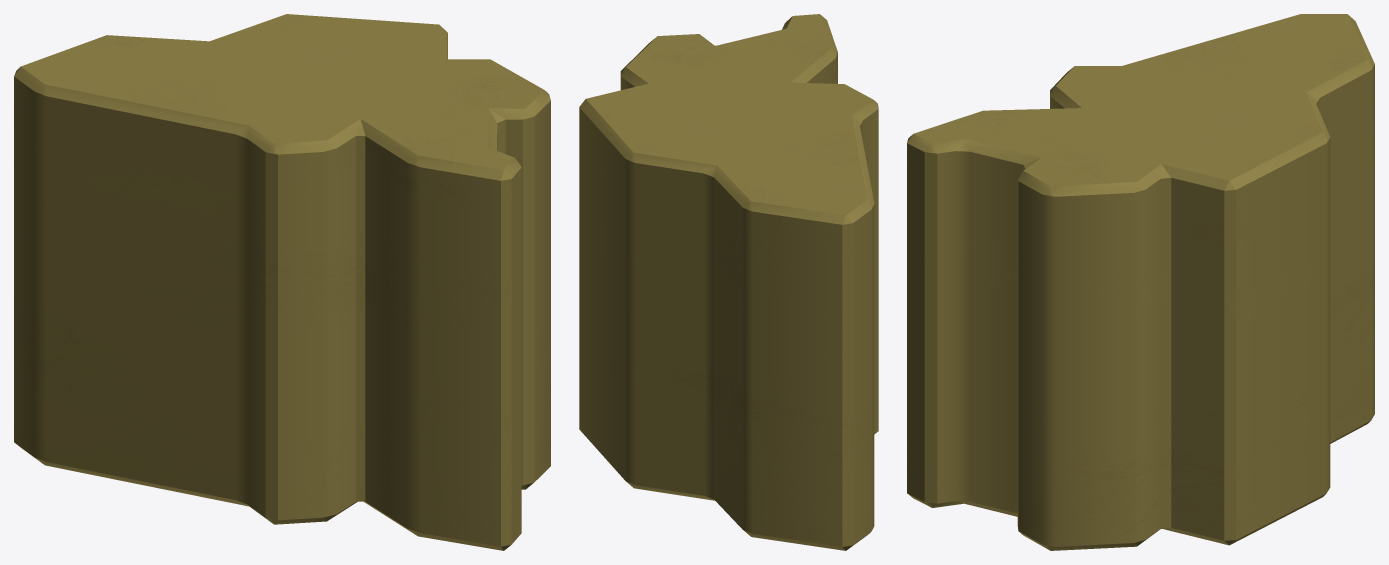
File: belgium.DAE
3 views of the same model, side by side, from view 1: azimuth 30°, elevation 25°; view 2: azimuth 150°, elevation 25°; view 3: azimuth 270°, elevation 25° (orthographic). The views are drawn at different scales.
Parts seen in each view (by area): view 1: Belgium; view 2: Belgium; view 3: Belgium.
Boxes of the visible parts, left/top/right/bottom form: Belgium: left=14, top=14, right=550, bottom=550; Belgium: left=579, top=14, right=878, bottom=550; Belgium: left=907, top=14, right=1374, bottom=550.
Size of the model in its own units: 26.31 by 29.07 by 25.
1 material, 1 textured.
